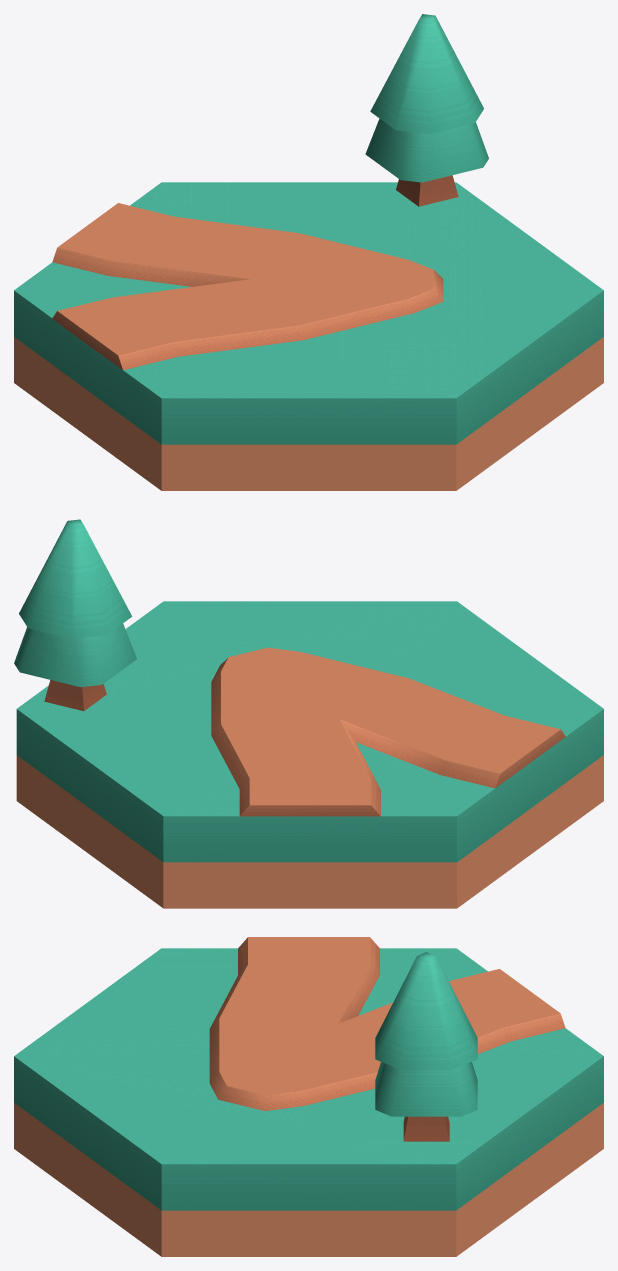
The model's file is grass-path-corner-sharp-tree.glb.
The picture shows the model from 3 angles, top to bottom: view 1: azimuth 30°, elevation 25°; view 2: azimuth 150°, elevation 25°; view 3: azimuth 270°, elevation 25°; orthographic projection.
Visible parts, largest first — view 1: grass, path-corner-sharp, unit-tree; view 2: grass, path-corner-sharp, unit-tree; view 3: grass, path-corner-sharp, unit-tree.
Part boxes in pixels (box(x1,y1,x2,y2)): grass: box(14, 182, 603, 490); path-corner-sharp: box(52, 203, 443, 370); unit-tree: box(365, 14, 488, 206); grass: box(16, 601, 603, 908); path-corner-sharp: box(211, 647, 565, 816); unit-tree: box(14, 519, 136, 711); grass: box(14, 948, 603, 1256); path-corner-sharp: box(209, 937, 565, 1110); unit-tree: box(375, 952, 477, 1141).
Bounding box in the file's own units: 1 × 0.603 × 1.15.
1 material, 1 textured.
